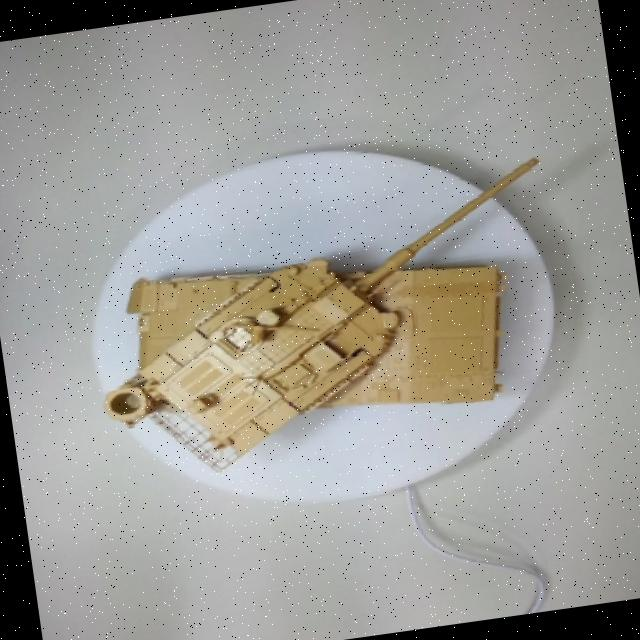korea tank: (53, 116, 632, 530)
